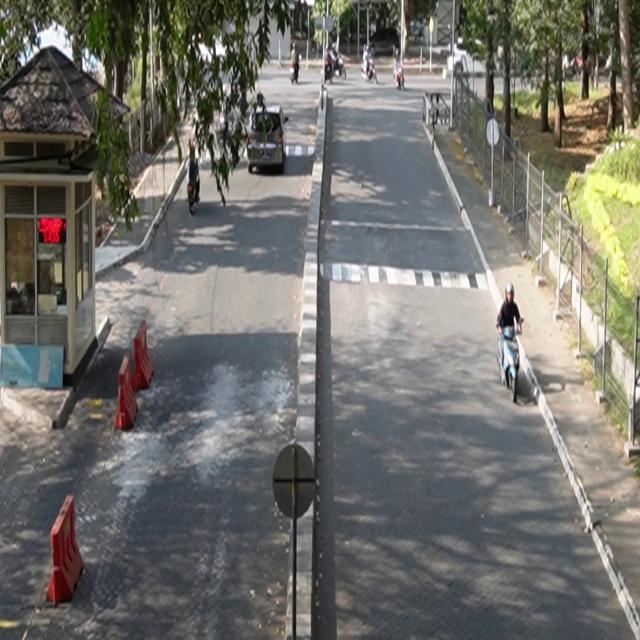car: (247, 104, 289, 175)
